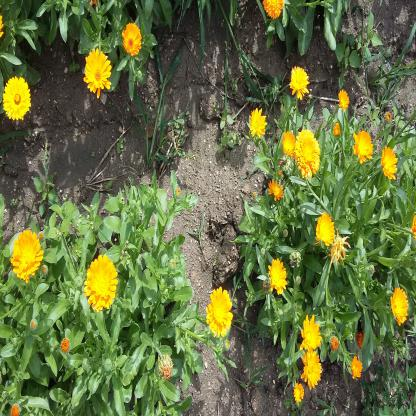marigold: (10, 231, 42, 276), (87, 258, 116, 306), (3, 76, 31, 118), (208, 286, 232, 334), (84, 50, 110, 94), (296, 130, 321, 173), (269, 257, 289, 291), (302, 313, 320, 350), (302, 349, 320, 386), (390, 289, 409, 324), (124, 22, 141, 56), (381, 146, 398, 180), (317, 214, 334, 246), (290, 67, 308, 96), (355, 130, 371, 161), (249, 108, 266, 136), (282, 130, 295, 154), (267, 180, 284, 198), (338, 90, 348, 107)
